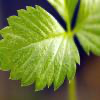Strawberry leaf: (0, 2, 80, 91)
